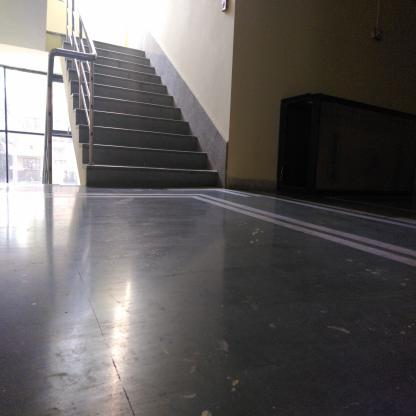stairs: (100, 48, 146, 194)
